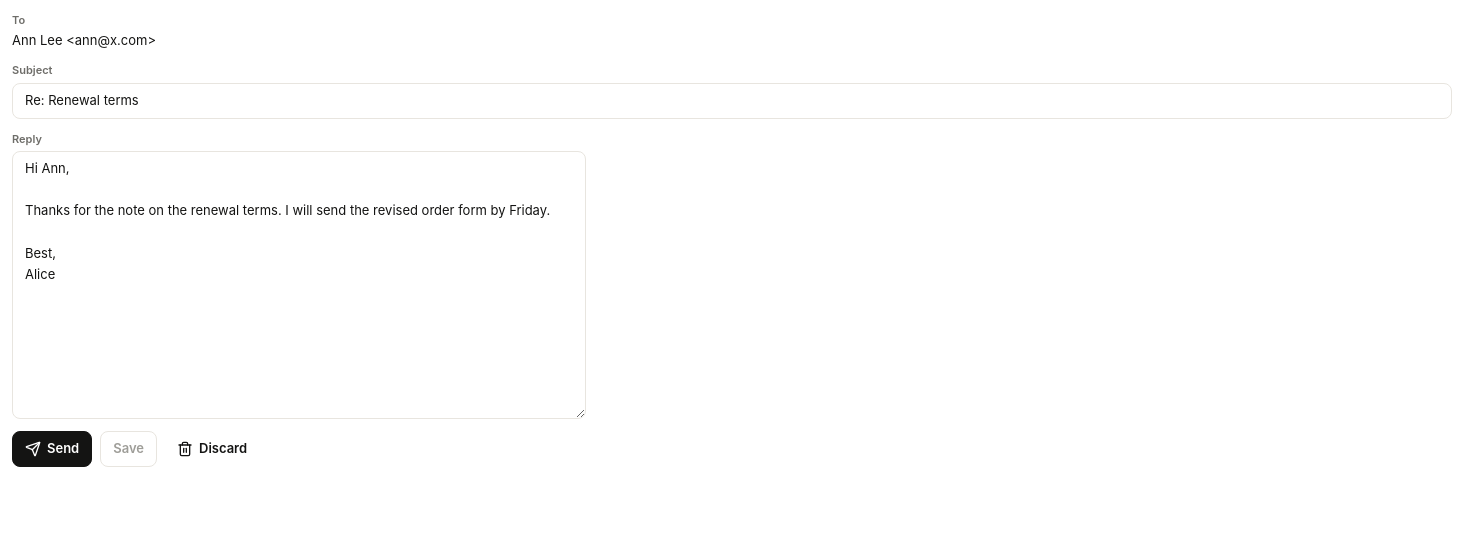
DraftForm: an email draft (Decisions 2 to 6) › says NO_MAILBOX in the server words with a way to Connections, and focuses the alert
Click the button "Send" at (52, 448), box [12,430,92,466]
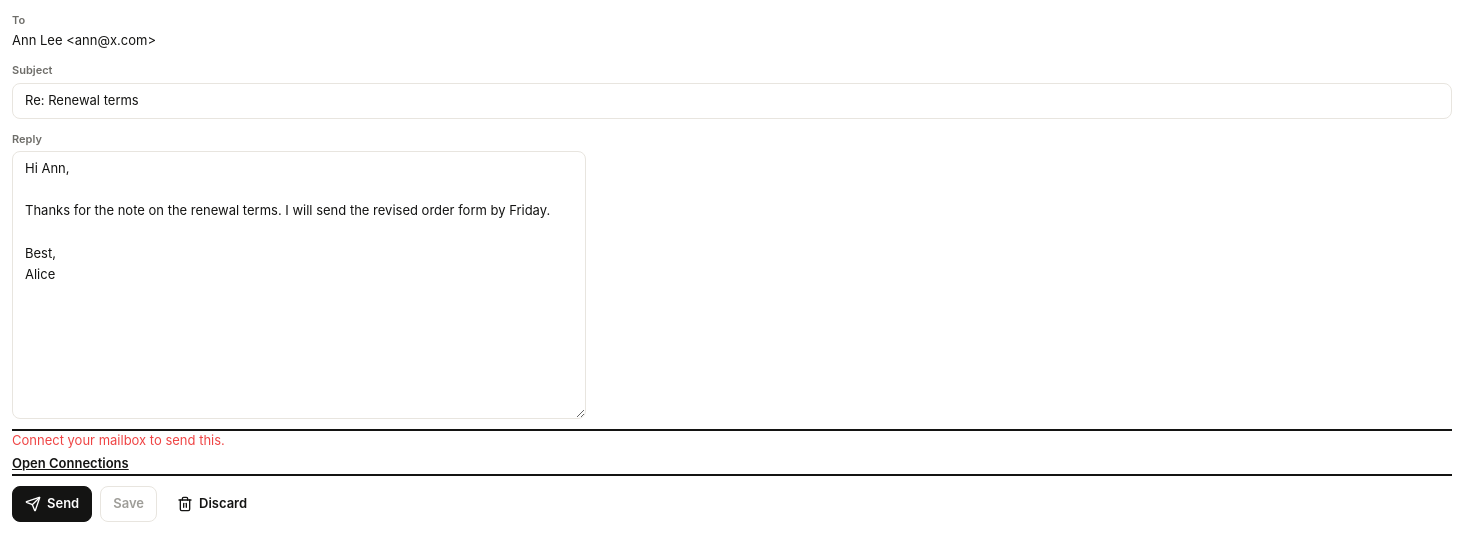
Expected: the message shows "Connect your mailbox to send this.", [12,432,225,448]
